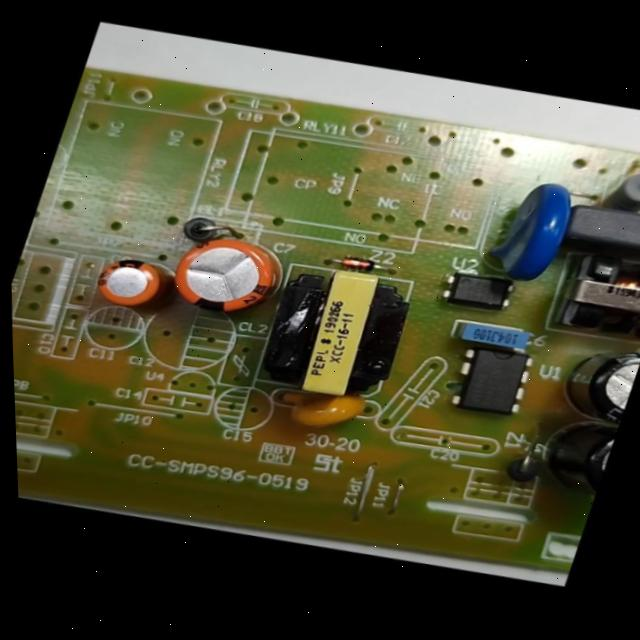Cap1: (151, 217, 297, 336)
Cap2: (73, 243, 186, 326)
Cap3: (547, 330, 640, 430)
Cap4: (518, 403, 624, 507)
MOSFET: (437, 334, 547, 428)
Mov: (471, 165, 593, 297)
Resistor: (596, 157, 640, 222)
Transformer: (244, 249, 435, 415), (542, 236, 640, 350)
